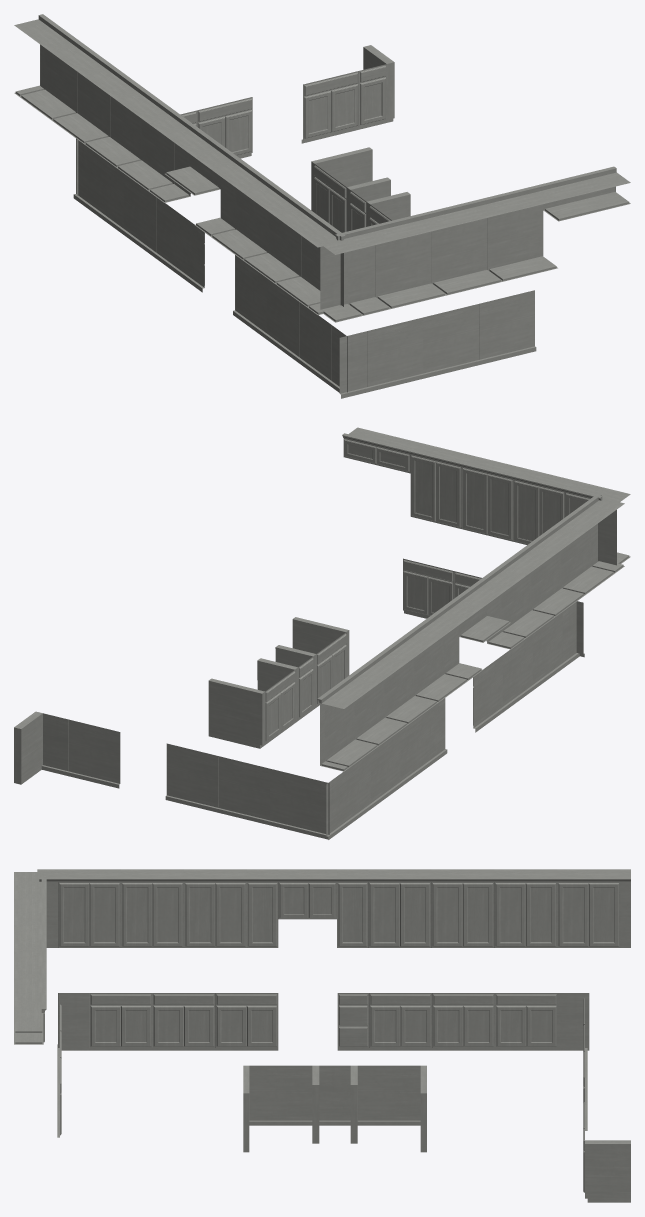
File: 2345_kitchen_cabinets_bolder.gltf
3 views of the same model, one above another, from view 1: azimuth 30°, elevation 25°; view 2: azimuth 150°, elevation 25°; view 3: azimuth 270°, elevation 25° (orthographic). The views are drawn at different scales.
Visible parts, largest first — view 1: Line23325; view 2: Line23325; view 3: Line23325.
Boxes of the visible parts, box(x1,y1,x2,y2) form: Line23325: box(14, 14, 630, 398); Line23325: box(14, 427, 630, 839); Line23325: box(14, 869, 630, 1202).
Size of the model in its own units: 6.4 by 2.93 by 9.8.
1 material, 1 textured.
